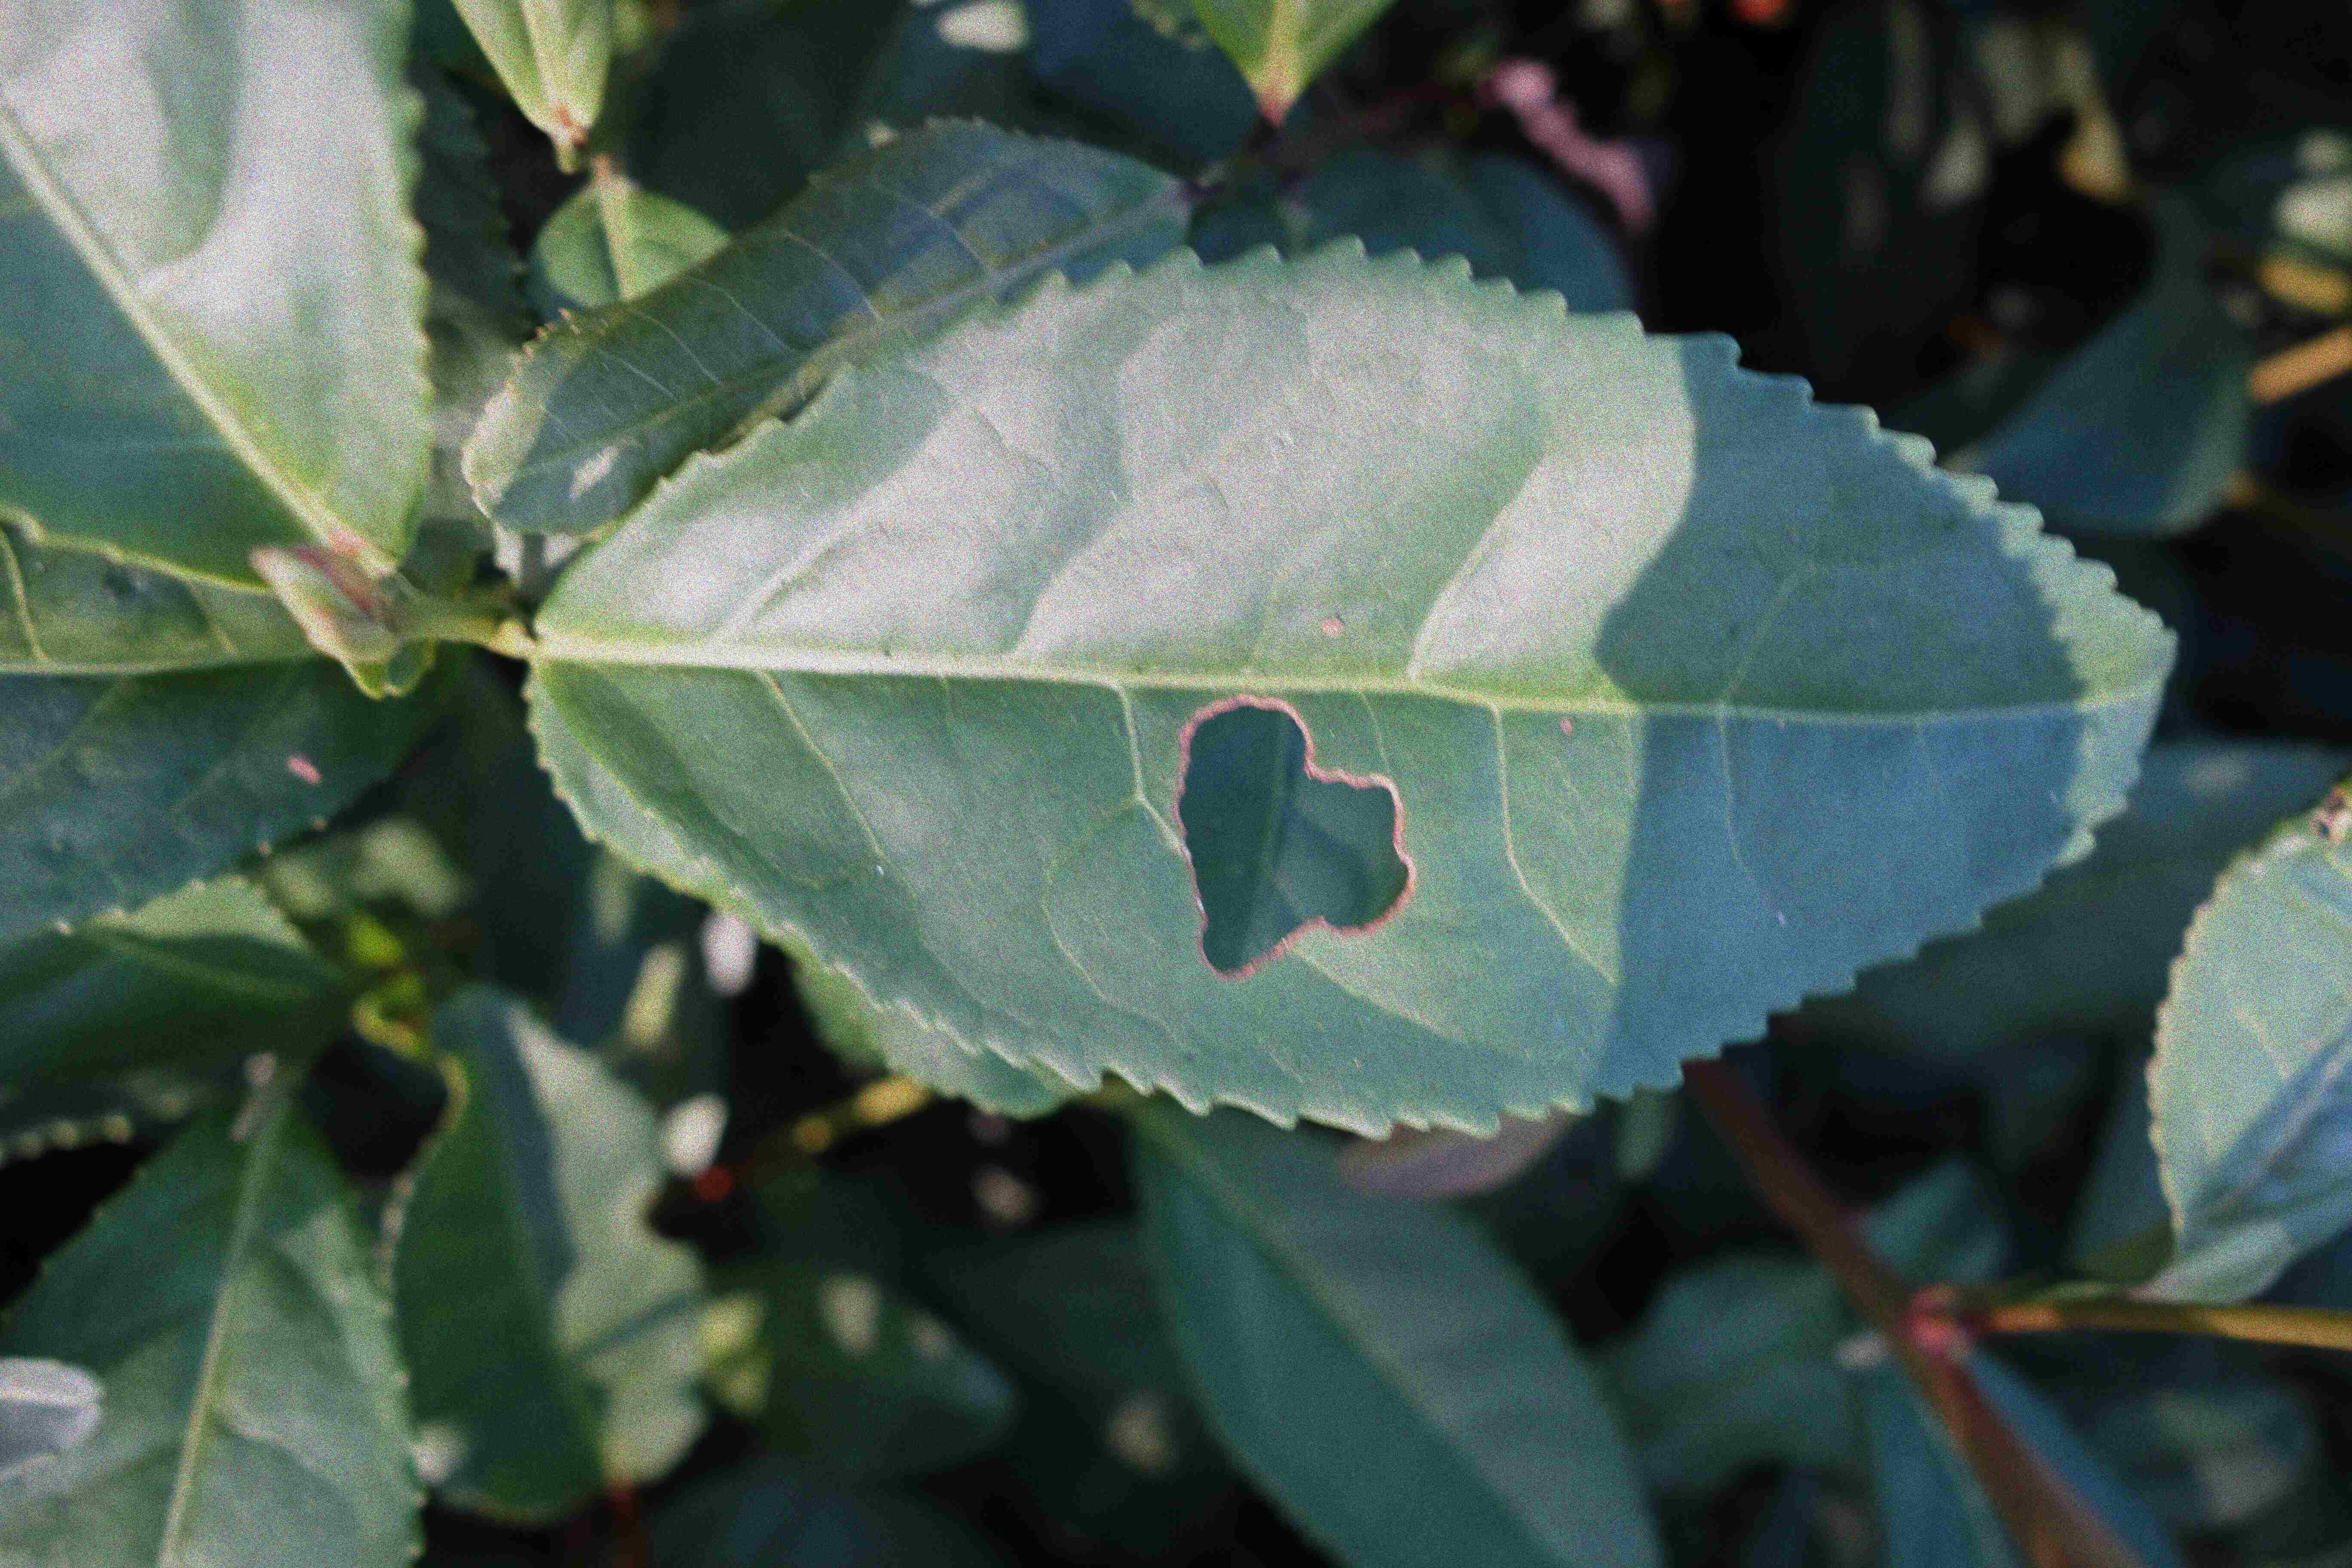chihuo_low: (537, 233, 2177, 1143)
